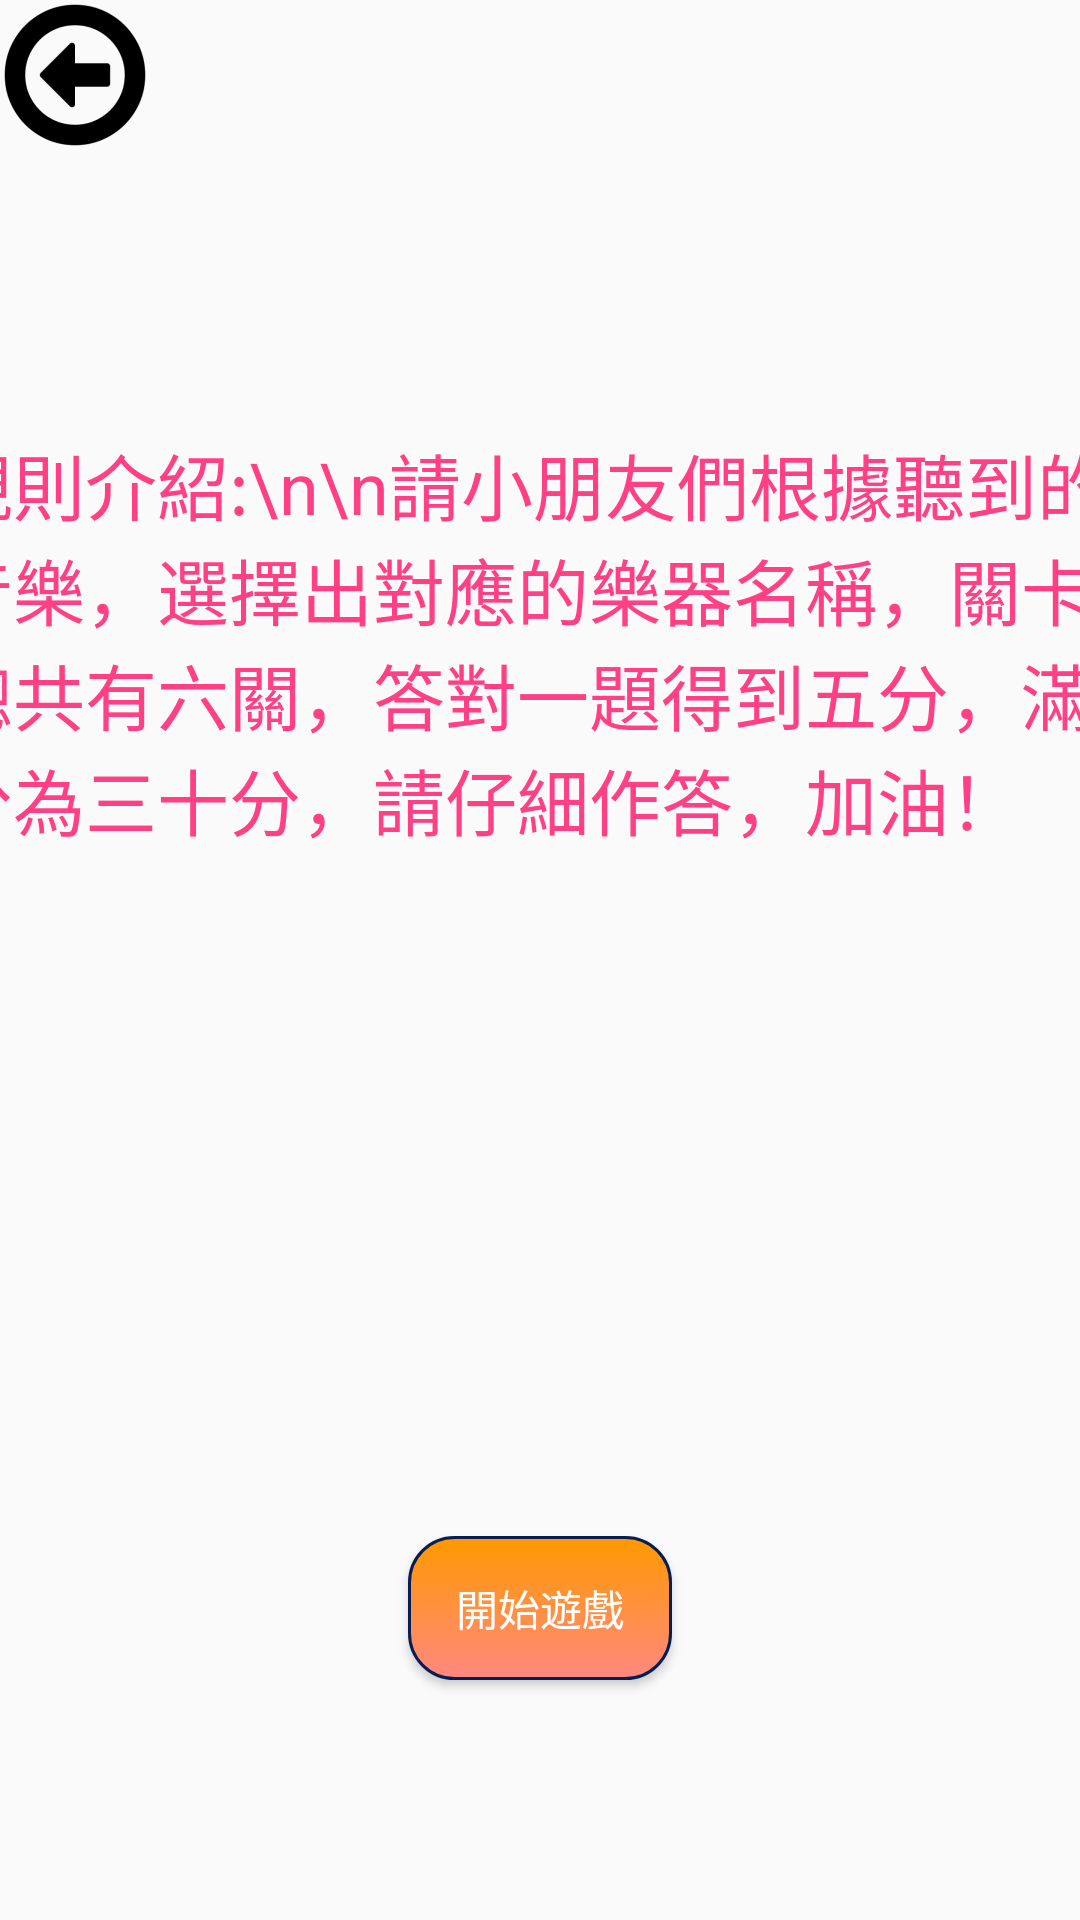

Icons on this 1080 × 1920 Android screen, each with the point to tap as (x,y):
backbutton: (75,75)
